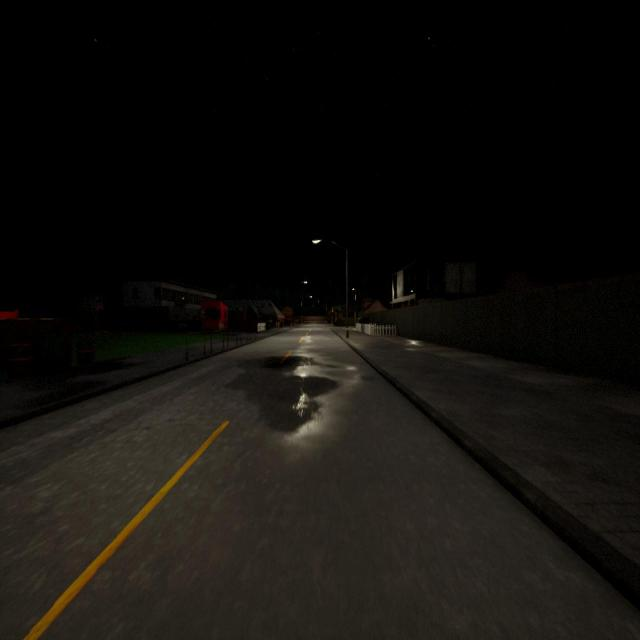traffic_light: (332, 309, 334, 316)
